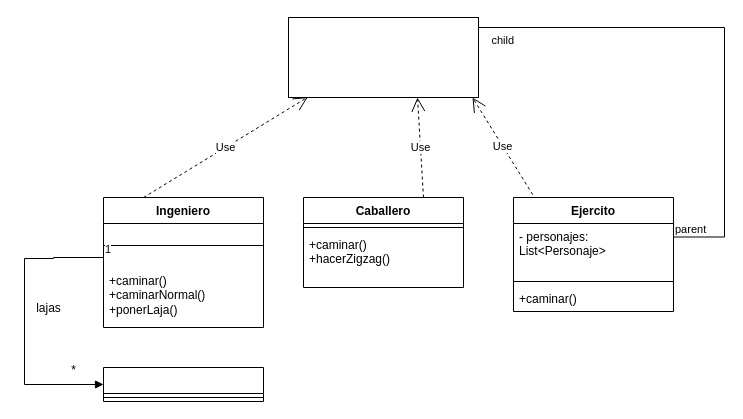
The diagram is 743 pixels wide and 419 high, and some of its shapes have lost their labels. The centre of each missing label's shape, as x and y in pixels:
<<Interface>> Personaje +caminar(): the point at 383,57
Laja: the point at 183,384
